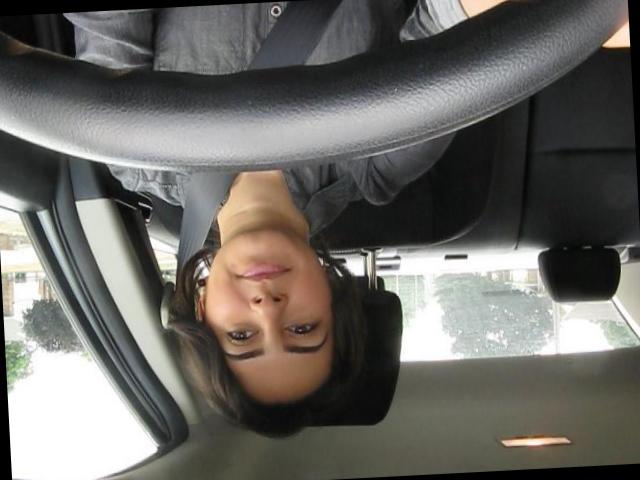eye_open: (220, 322, 260, 348), (281, 318, 322, 340)
face: (202, 227, 336, 389)
